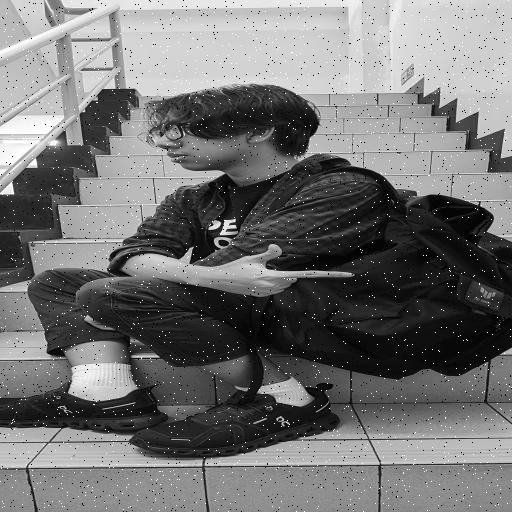next: (213, 239, 368, 307)
